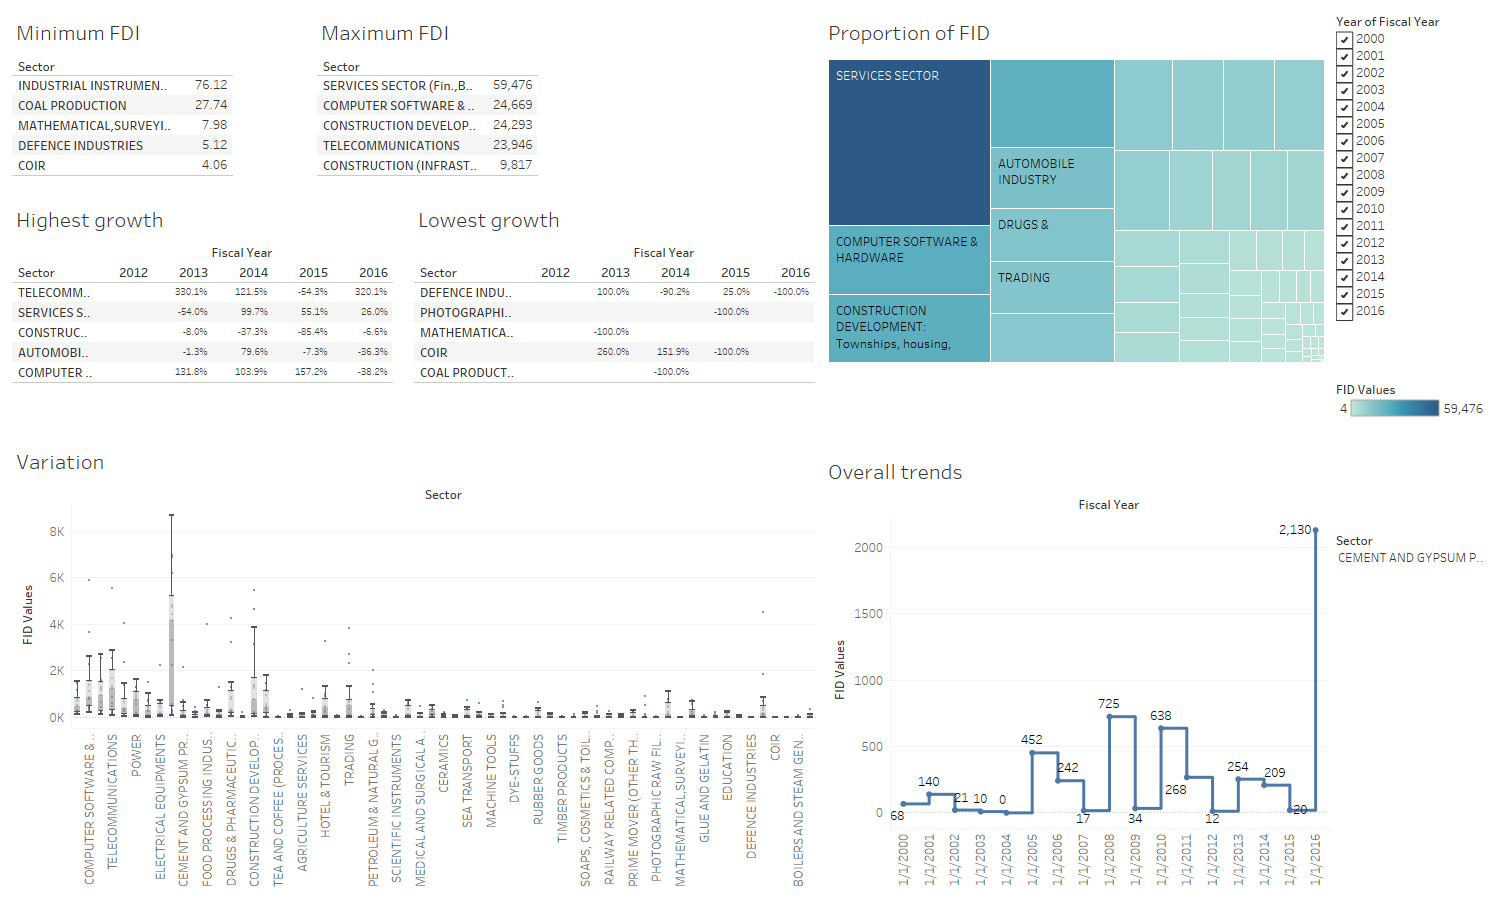

The page's visual inventory and layout, read from the dashboard file:
{"tool":"tableau","page":{"name":"Dashboard 1","canvas":[1500,900],"ordinal":0},"visuals":[{"type":"worksheet","box":[0,0,1500,900]},{"type":"worksheet","param":"horz","box":[8,8,1484,884]},{"type":"worksheet","param":"horz","box":[8,8,1324,884]},{"type":"worksheet","param":"horz","box":[8,8,1324,884]},{"type":"worksheet","box":[8,8,1324,884]},{"type":"worksheet","title":"Minimum FDI","mark":"Automatic","rows":["Sector"],"box":[8,8,305.1,187]},{"type":"worksheet","title":"Maximum FDI","mark":"Automatic","rows":["Sector"],"box":[313.1,8,506.9,187]},{"type":"worksheet","title":"Proportion of FID","mark":"Automatic","box":[820,8,512,439]},{"type":"worksheet","param":"vert","box":[1332,8,160,884]},{"type":"worksheet","title":"Proportion of FID","mark":"Automatic","param":"[federated.14hefdv1iyk2om1h2tzwq1qrkhpz].[yr:Calculation_1034139109435863042:ok]","box":[1332,8,160,365]},{"type":"worksheet","title":"Highest growth","mark":"Automatic","rows":["Sector"],"cols":["Calculation_1034139109435863042"],"box":[8,195,402,242]},{"type":"worksheet","title":"Lowest growth","mark":"Automatic","rows":["Sector"],"cols":["Calculation_1034139109435863042"],"box":[410,195,410,242]},{"type":"worksheet","title":"Proportion of FID","mark":"Automatic","param":"[federated.14hefdv1iyk2om1h2tzwq1qrkhpz].[sum:Pivot Field Values:qk]","box":[1332,373,160,154]},{"type":"worksheet","title":"Variation","mark":"Circle","rows":["Pivot Field Values"],"cols":["Sector"],"box":[8,437,812,455]},{"type":"worksheet","title":"Overall trends","mark":"Automatic","rows":["Pivot Field Values"],"cols":["Calculation_1034139109435863042"],"box":[820,447,512,445]},{"type":"worksheet","title":"Overall trends","mark":"Automatic","rows":["Pivot Field Values"],"cols":["Calculation_1034139109435863042"],"param":"[federated.14hefdv1iyk2om1h2tzwq1qrkhpz].[none:Sector:nk]","box":[1332,527,160,365]}]}

Visuals, with their boxes in screenshot pixels (x1, y1, x2, y2), scaled from the page's 1500x900 canvas onto the 1500x900 screenshot:
worksheet: BBox(0, 0, 1499, 899)
worksheet: BBox(8, 8, 1492, 892)
worksheet: BBox(8, 8, 1332, 892)
worksheet: BBox(8, 8, 1332, 892)
worksheet: BBox(8, 8, 1332, 892)
"Minimum FDI" worksheet: BBox(8, 8, 313, 195)
"Maximum FDI" worksheet: BBox(313, 8, 820, 195)
"Proportion of FID" worksheet: BBox(820, 8, 1332, 447)
worksheet: BBox(1332, 8, 1492, 892)
"Proportion of FID" worksheet: BBox(1332, 8, 1492, 373)
"Highest growth" worksheet: BBox(8, 195, 410, 437)
"Lowest growth" worksheet: BBox(410, 195, 820, 437)
"Proportion of FID" worksheet: BBox(1332, 373, 1492, 527)
"Variation" worksheet (Circle marks): BBox(8, 437, 820, 892)
"Overall trends" worksheet: BBox(820, 447, 1332, 892)
"Overall trends" worksheet: BBox(1332, 527, 1492, 892)
